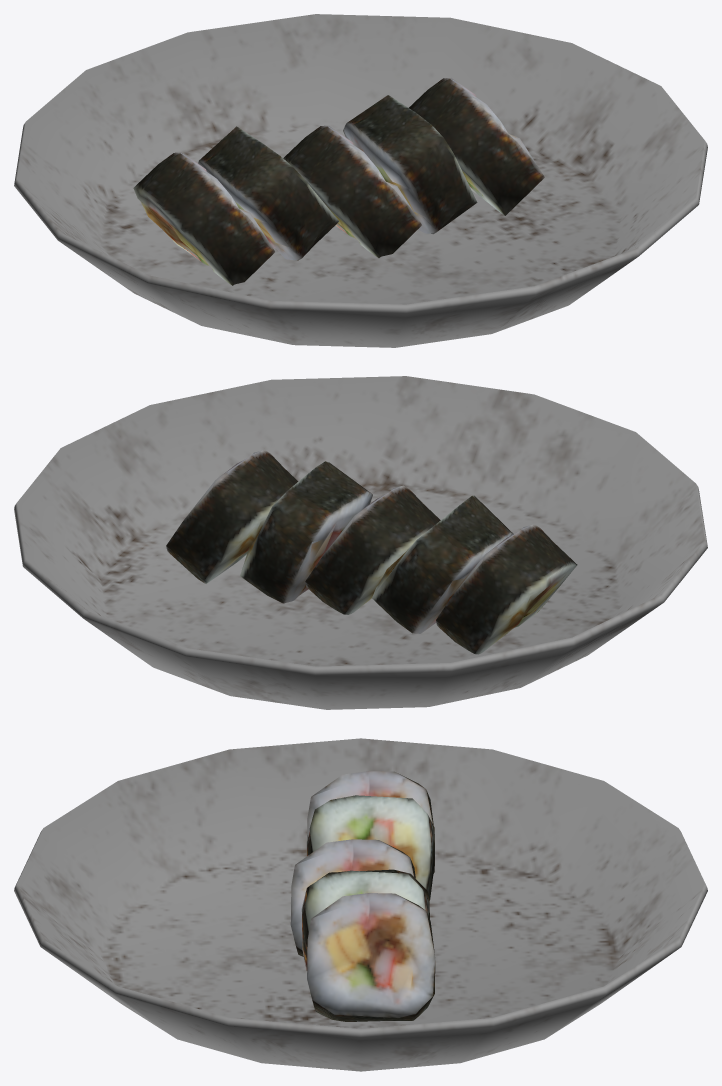
The model's file is PlateSushi.glb.
3 renders of one model, top to bottom at view 1: azimuth 30°, elevation 25°; view 2: azimuth 150°, elevation 25°; view 3: azimuth 270°, elevation 25°, orthographic.
Parts seen in each view (by area): view 1: PlateSushi; view 2: PlateSushi; view 3: PlateSushi.
Part boxes in pixels (x1=…): PlateSushi: x1=14, y1=14, x2=707, y2=347; PlateSushi: x1=14, y1=376, x2=707, y2=709; PlateSushi: x1=14, y1=738, x2=707, y2=1071.
Size of the model in its own units: 0.6 by 0.1245 by 0.6.
2 materials, 2 textured.
